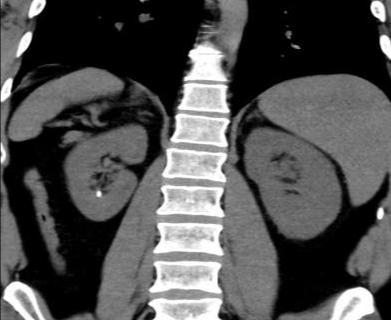Tas_Var: (92, 189, 104, 199)
